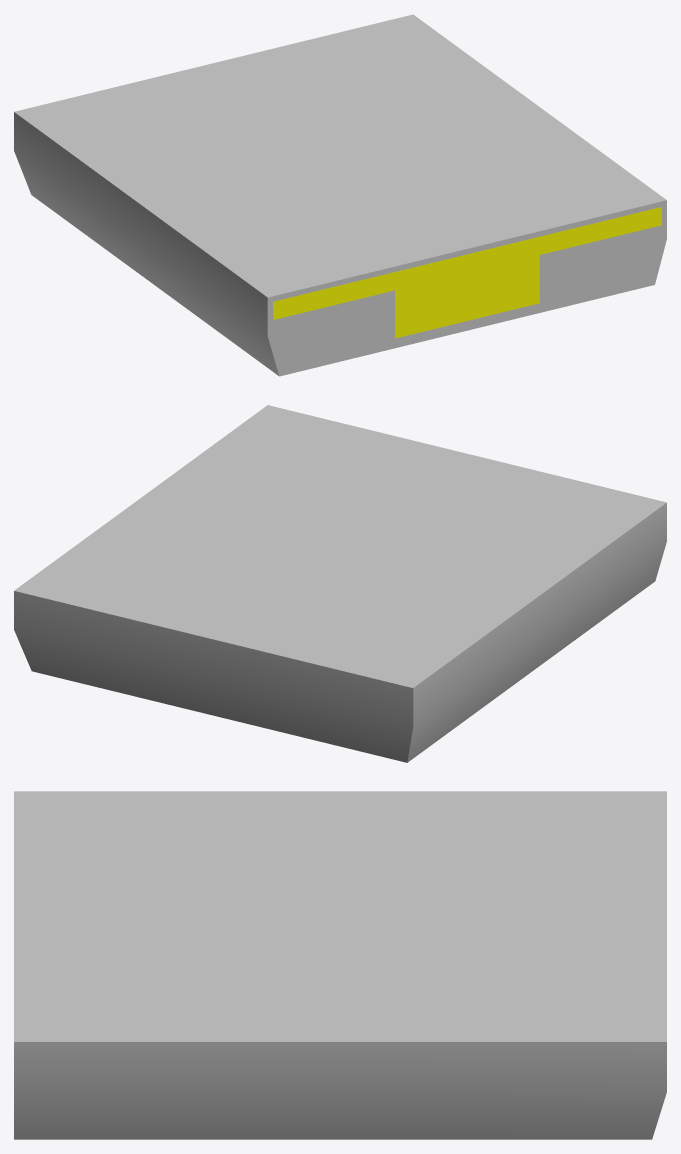
Rendered from sm_hana_fas_fire_repeater.glb.
The picture shows the model from 3 angles, top to bottom: view 1: azimuth 30°, elevation 25°; view 2: azimuth 150°, elevation 25°; view 3: azimuth 270°, elevation 25°; orthographic projection. The views are drawn at different scales.
Parts seen in each view (by area): view 1: sm_color_common, sm_hana_fas_fire_repeater; view 2: sm_color_common; view 3: sm_color_common.
Boxes of the visible parts, x1,y1,x2,y2 form: sm_color_common: (14, 14, 666, 376); sm_hana_fas_fire_repeater: (273, 207, 661, 338); sm_color_common: (14, 405, 666, 762); sm_color_common: (14, 791, 666, 1139).
Bounding box in the file's own units: 0.5163 × 0.1011 × 0.5684.
Materials: 2 (1 with a texture image).
